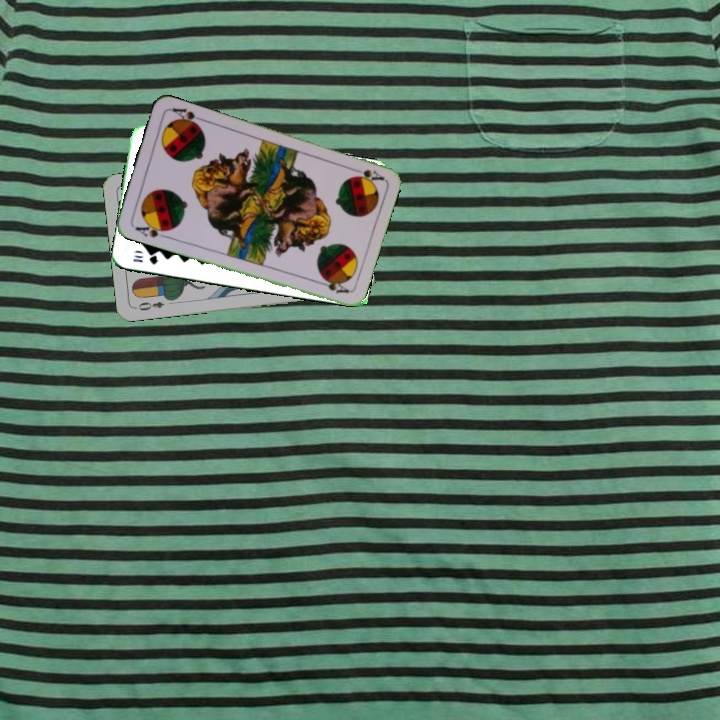EO: (131, 298, 167, 313)
G10: (129, 251, 160, 267)
SA: (131, 218, 172, 241), (346, 164, 386, 185)
